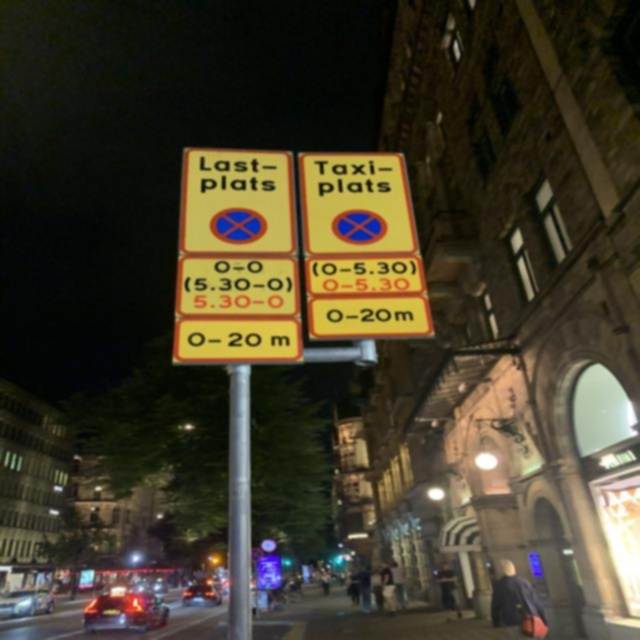lastplats: (178, 147, 299, 255)
